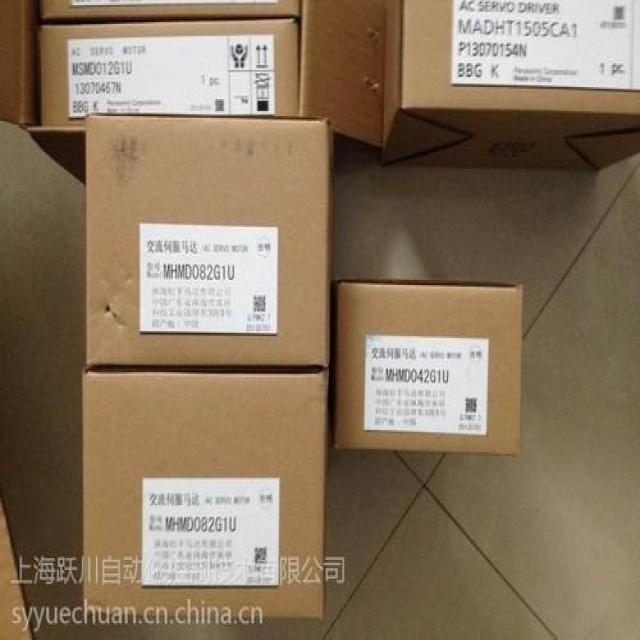box: (0, 2, 402, 187), (87, 116, 332, 372), (82, 372, 327, 621), (382, 0, 639, 173), (333, 282, 522, 454)
